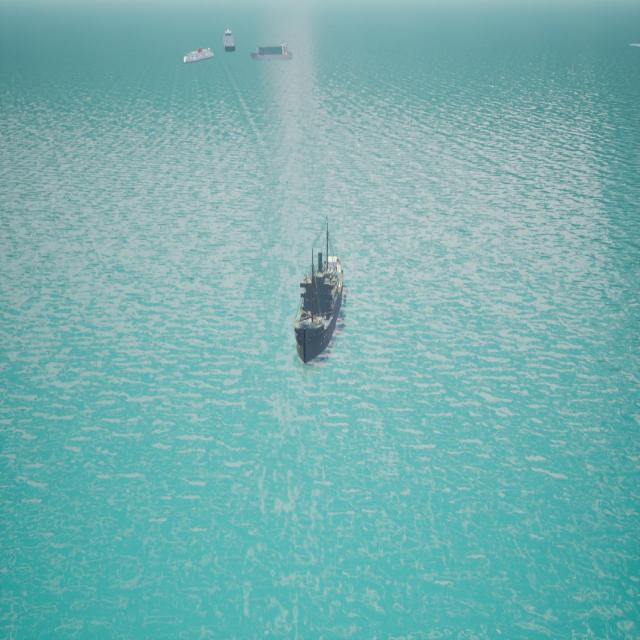fishing ship: (294, 217, 348, 357), (252, 42, 294, 61), (184, 49, 217, 65), (225, 32, 238, 54)
